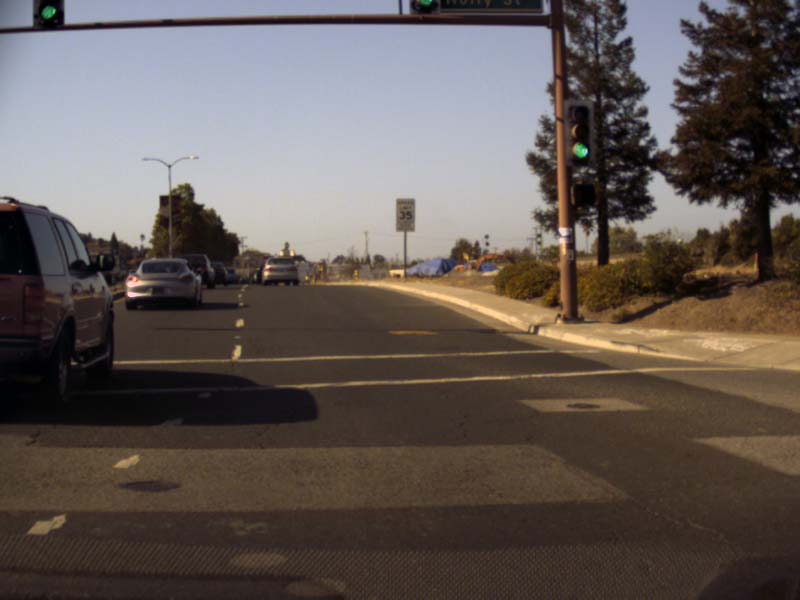Green: (562, 98, 591, 165)
